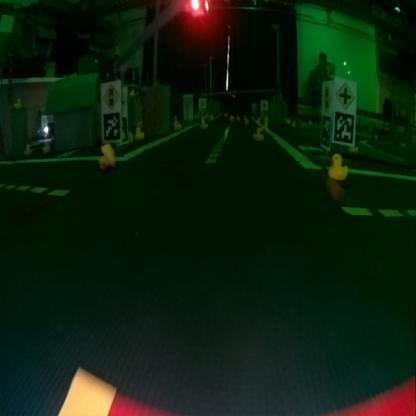Duckie: (328, 155, 347, 180), (98, 145, 115, 166), (254, 127, 262, 140), (199, 119, 208, 128), (135, 128, 141, 134)
Intersection sign: (336, 81, 354, 108)
QR code: (336, 111, 356, 143), (102, 113, 119, 141), (319, 117, 330, 148)
Signal sign: (101, 82, 119, 108), (321, 81, 332, 111)
Traffic light: (184, 1, 210, 16)
